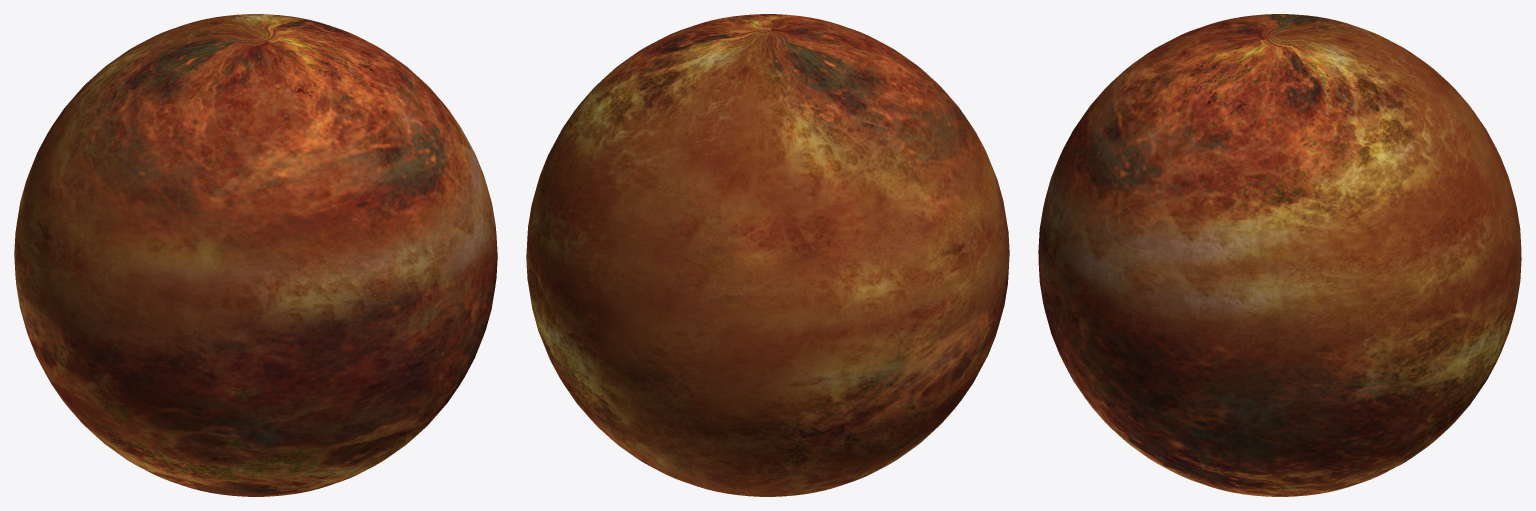
Rendered from venus.FBX.
3 renders of one model, left to right at view 1: azimuth 30°, elevation 25°; view 2: azimuth 150°, elevation 25°; view 3: azimuth 270°, elevation 25°, orthographic.
Visible parts, largest first — view 1: ven1; view 2: ven1; view 3: ven1.
Boxes of the visible parts, x1,y1,x2,y2 form: ven1: (14, 14, 497, 496); ven1: (526, 14, 1009, 496); ven1: (1038, 14, 1521, 496).
Bounding box in the file's own units: 1205 × 1206 × 1205.
Materials: 1 (1 with a texture image).
